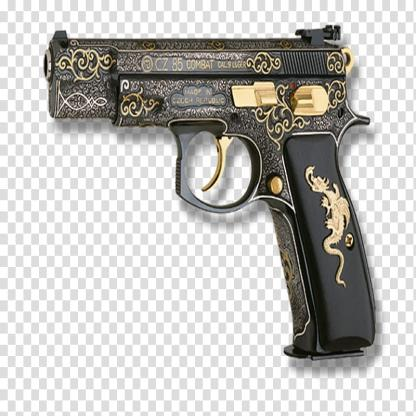handgun: (44, 26, 382, 364)
